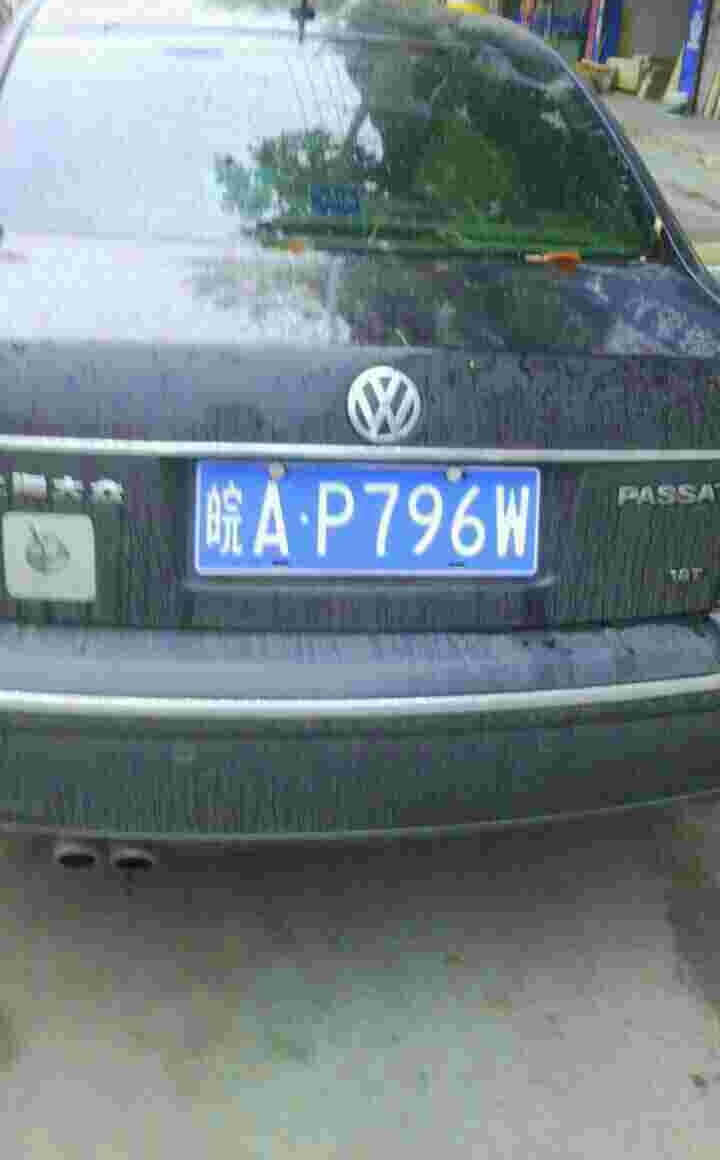license_plate: (193, 455, 538, 580)
